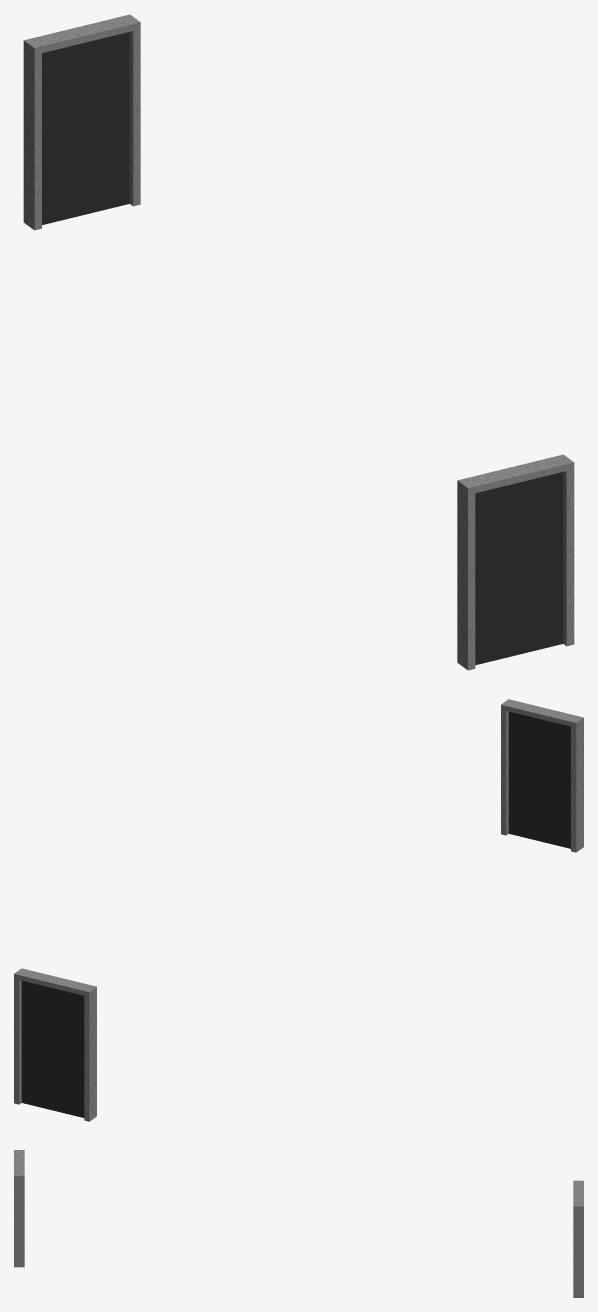
Rendered from doors.glb.
3 views of the same model, one above another, from view 1: azimuth 30°, elevation 25°; view 2: azimuth 150°, elevation 25°; view 3: azimuth 270°, elevation 25° (orthographic). The views are drawn at different scales.
Visible parts, largest first — view 1: 门入口·碰撞, 门出口·碰撞, 门入口·框左, 门出口·框左, 门入口·框右, 门出口·框右, 门出口·门楣, 门入口·门楣; view 2: 门出口·碰撞, 门入口·碰撞, 门入口·框左, 门出口·框左, 门入口·框右, 门出口·框右, 门出口·门楣, 门入口·门楣; view 3: 门出口·框右, 门入口·框右, 门入口·门楣, 门出口·门楣.
Part boxes in pixels (bbox=[...]): 门入口·碰撞: bbox=[475, 472, 563, 665]; 门出口·碰撞: bbox=[42, 32, 129, 224]; 门入口·框左: bbox=[457, 478, 475, 670]; 门出口·框左: bbox=[23, 38, 41, 230]; 门入口·框右: bbox=[556, 454, 574, 646]; 门出口·框右: bbox=[123, 14, 140, 206]; 门出口·门楣: bbox=[23, 14, 140, 54]; 门入口·门楣: bbox=[457, 455, 574, 494]; 门出口·碰撞: bbox=[21, 980, 84, 1117]; 门入口·碰撞: bbox=[508, 711, 570, 848]; 门入口·框左: bbox=[571, 716, 583, 852]; 门出口·框左: bbox=[84, 985, 96, 1121]; 门入口·框右: bbox=[501, 699, 513, 835]; 门出口·框右: bbox=[14, 968, 26, 1104]; 门出口·门楣: bbox=[14, 968, 96, 996]; 门入口·门楣: bbox=[501, 700, 583, 727]; 门出口·框右: bbox=[573, 1205, 583, 1297]; 门入口·框右: bbox=[14, 1175, 24, 1267]; 门入口·门楣: bbox=[14, 1150, 24, 1179]; 门出口·门楣: bbox=[573, 1181, 583, 1209].
Bounding box in the file's own units: 2.49 × 1.87 × 10.6.
9 materials, 8 textured.
